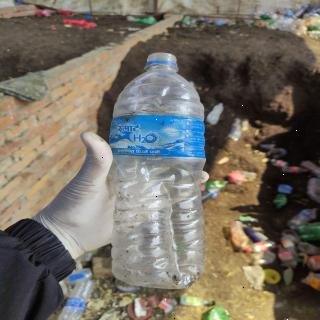Plastic-bottle: (105, 51, 213, 293), (60, 275, 98, 320)
